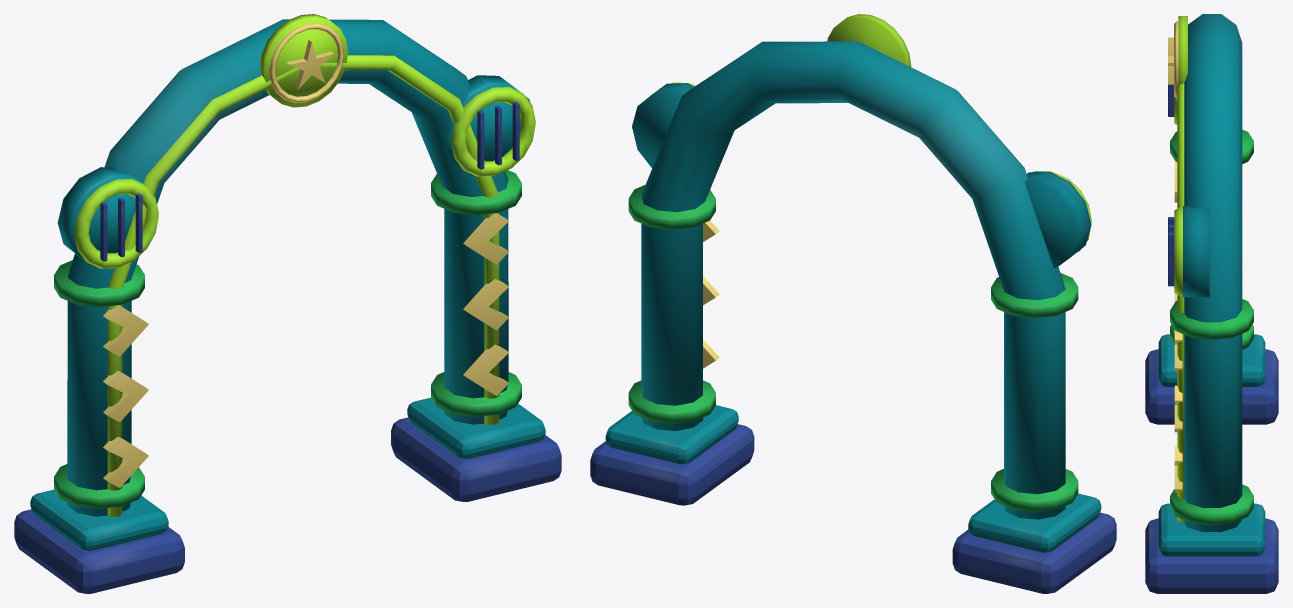
The model's file is PortalSewer.fbx.
3 views of the same model, side by side, from view 1: azimuth 30°, elevation 25°; view 2: azimuth 150°, elevation 25°; view 3: azimuth 270°, elevation 25° (orthographic). The views are drawn at different scales.
Parts seen in each view (by area): view 1: PortalSewer; view 2: PortalSewer; view 3: PortalSewer.
Boxes of the visible parts, x1,y1,x2,y2 form: PortalSewer: [14, 14, 561, 593]; PortalSewer: [590, 14, 1116, 593]; PortalSewer: [1145, 14, 1278, 593].
Size of the model in its own units: 11.6 by 11.65 by 3.
Materials: 1 (1 with a texture image).
